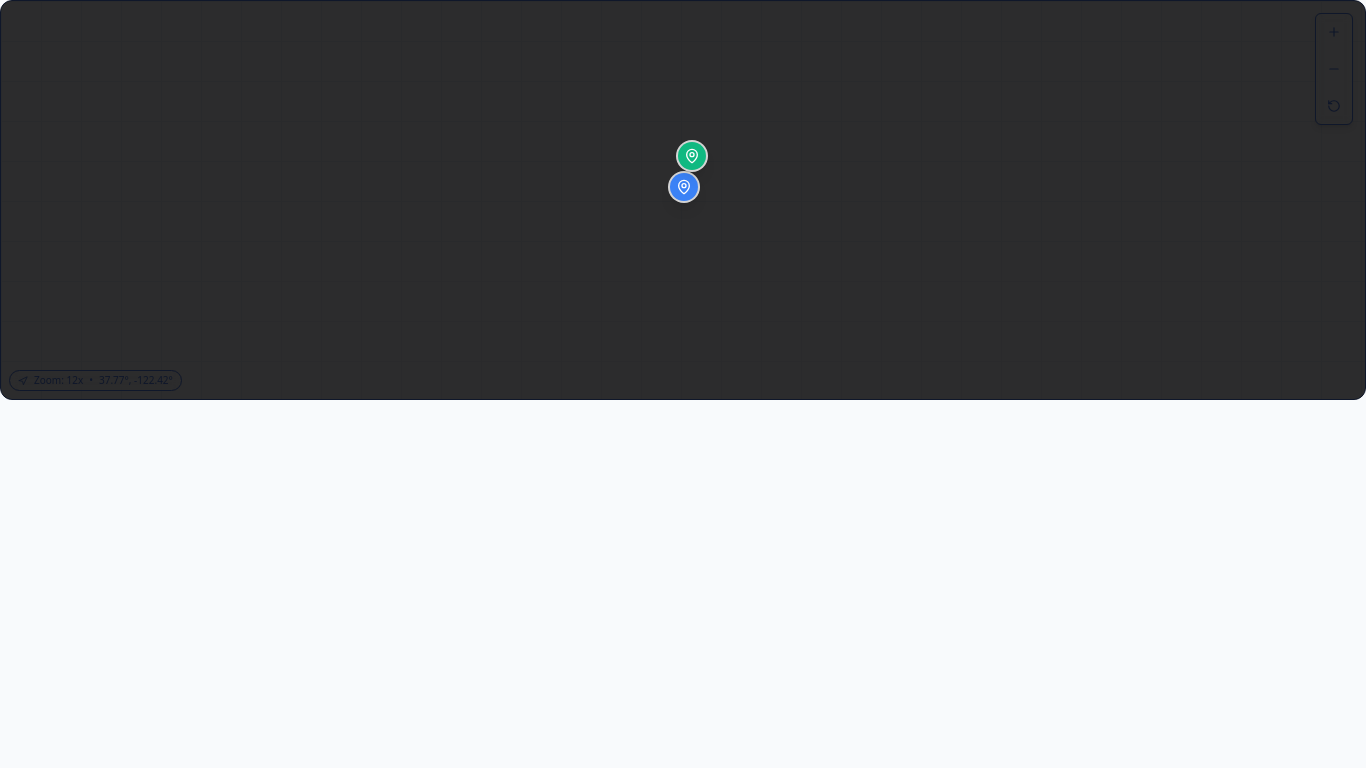
Test: InteractiveMap Component › opens marker popup card upon clicking a marker
The image size is (1366, 768).
Click the button with test id "map-marker-m1". click: (684, 187)
box: x1=670 y1=173 x2=698 y2=201
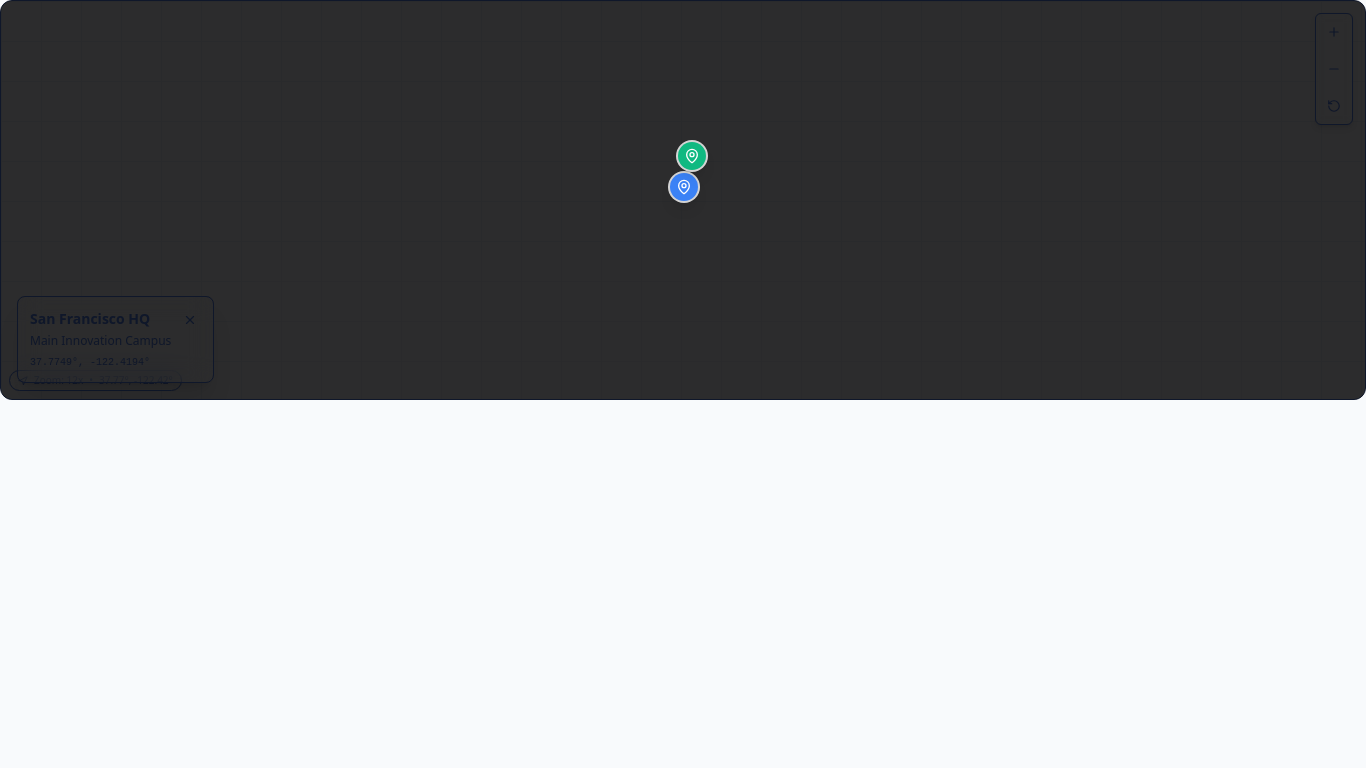
Expected: the dialog "San Francisco HQ Main Innovation Campus 37.7749°, -122.4194°" is shown, x1=17 y1=296 x2=214 y2=383
Expected: the text "Main Innovation Campus" is shown, x1=30 y1=333 x2=171 y2=349
# Close popup
Click the button named "close popup". click: (190, 320)
box: x1=179 y1=309 x2=201 y2=331
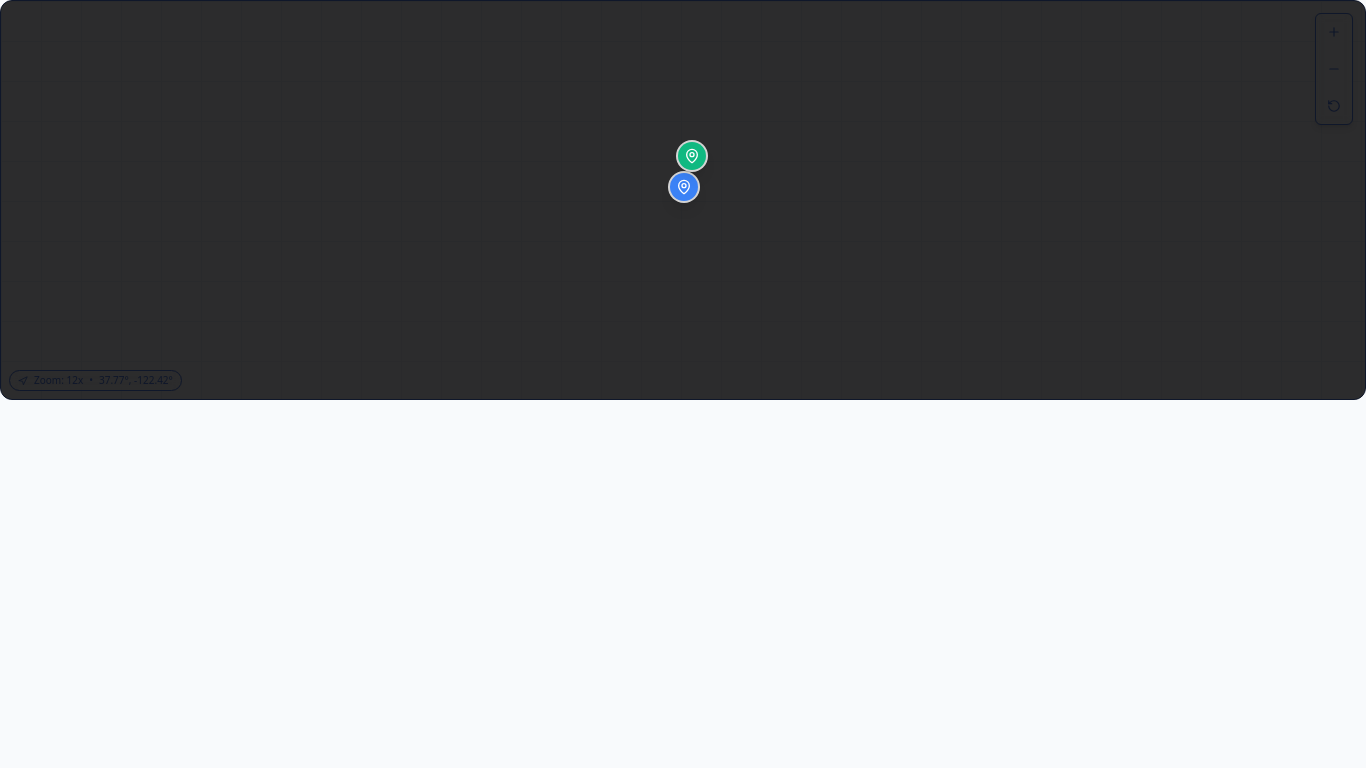
Expected: the dialog is gone
